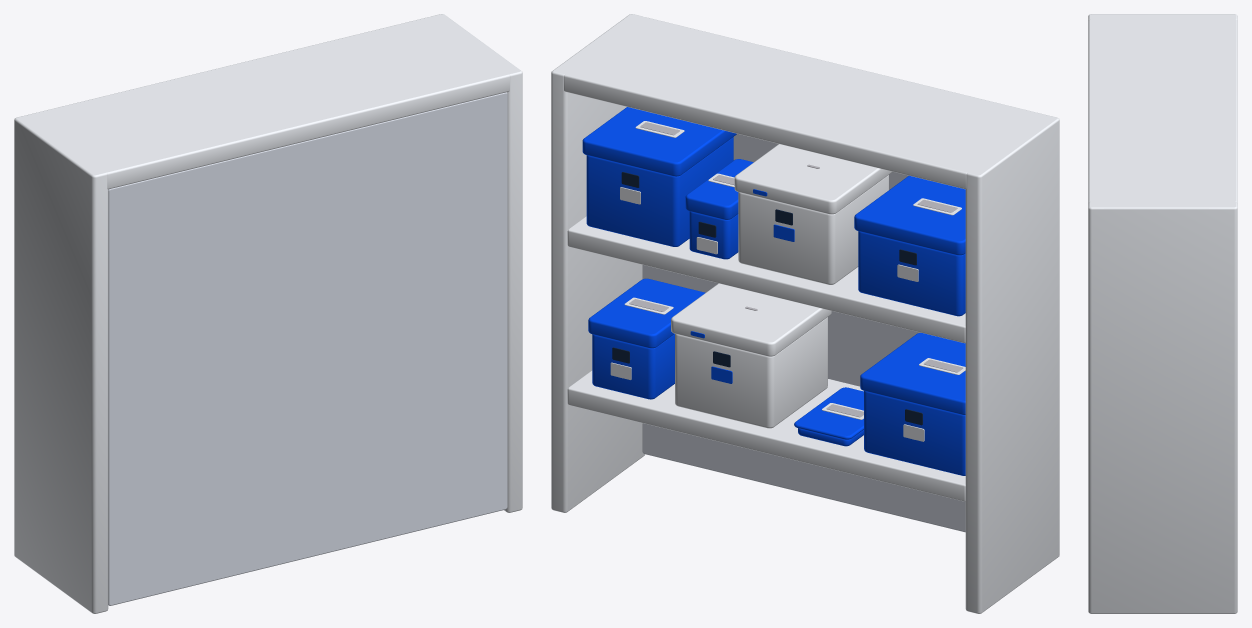
File: 32-nodeworks-shelves-with-boxes.glb
3 views of the same model, side by side, from view 1: azimuth 30°, elevation 25°; view 2: azimuth 150°, elevation 25°; view 3: azimuth 270°, elevation 25° (orthographic). The views are drawn at different scales.
Visible parts, largest first — view 1: pale_full_back_panel, right_white_side_post, white_top_frame, left_white_side_post; view 2: right_white_side_post, white_top_frame, left_white_side_post, pale_full_back_panel, lower_white_shelf, upper_white_shelf, lower_white_box_body, upper_white_box_body, upper_left_box_body, lower_white_overhanging_lid, upper_white_overhanging_lid, upper_right_box_body (+9 smaller); view 3: left_white_side_post, white_top_frame, right_white_side_post.
Part boxes in pixels (left/top/right/bottom): pale_full_back_panel: left=108, top=92, right=507, bottom=605; right_white_side_post: left=14, top=115, right=108, bottom=613; white_top_frame: left=28, top=17, right=509, bottom=189; left_white_side_post: left=430, top=14, right=522, bottom=512; right_white_side_post: left=965, top=115, right=1059, bottom=613; white_top_frame: left=564, top=17, right=1045, bottom=189; left_white_side_post: left=551, top=14, right=644, bottom=512; pale_full_back_panel: left=642, top=133, right=965, bottom=532; lower_white_shelf: left=567, top=370, right=965, bottom=501; upper_white_shelf: left=567, top=216, right=965, bottom=343; lower_white_box_body: left=675, top=317, right=827, bottom=428; upper_white_box_body: left=738, top=175, right=888, bottom=284; upper_left_box_body: left=586, top=137, right=733, bottom=246; lower_white_overhanging_lid: left=671, top=283, right=831, bottom=356; upper_white_overhanging_lid: left=734, top=144, right=891, bottom=214; upper_right_box_body: left=858, top=231, right=965, bottom=316; left_white_side_post: left=1088, top=201, right=1237, bottom=613; white_top_frame: left=1088, top=19, right=1237, bottom=202; right_white_side_post: left=1088, top=14, right=1237, bottom=20.
Size of the model in its own units: 0.74 by 0.72 by 0.24.
